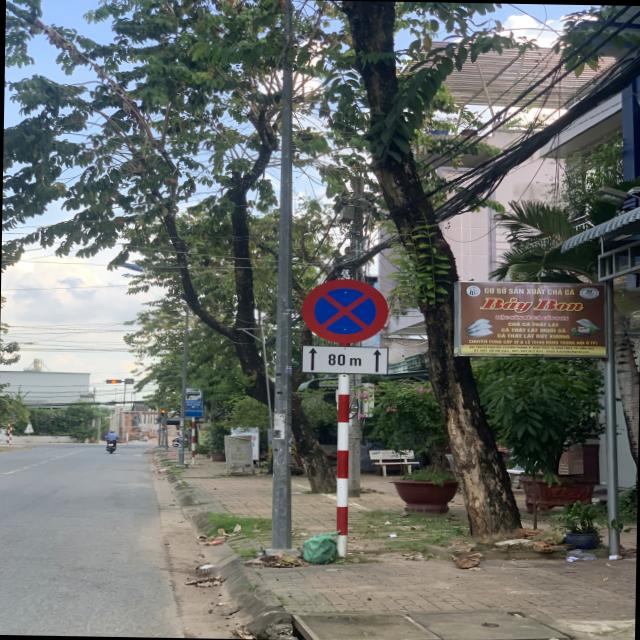Cam_Dung_Va_Dau_Xe: (302, 278, 392, 344)
